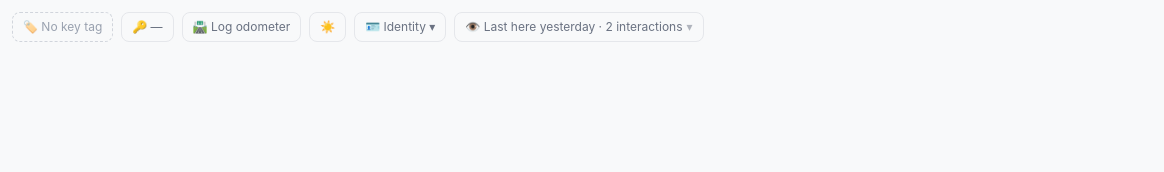
tapping the chip › closes again on a second tap
Click the button with test id "seen-chip" at (579, 27), box x1=454 y1=12 x2=704 y2=42
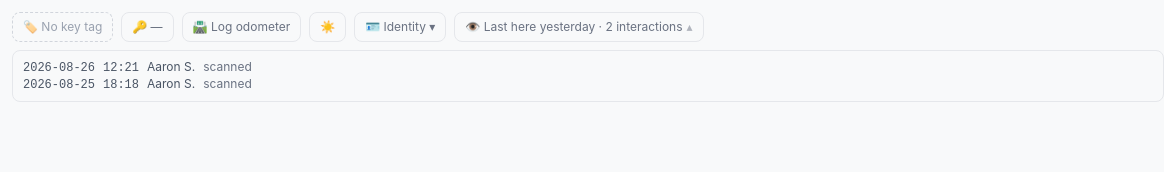
Click the button with test id "seen-chip" at (579, 27), box x1=454 y1=12 x2=704 y2=42
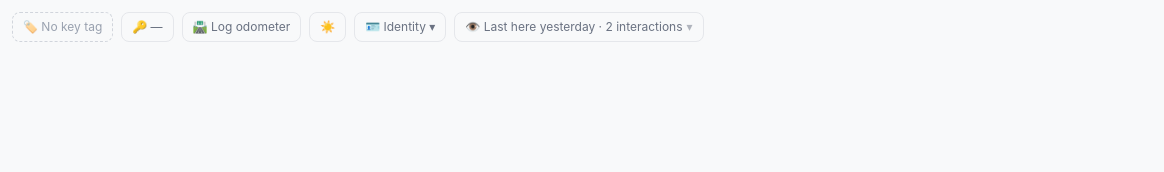
Expected: the element with test id "seen-history" is gone
